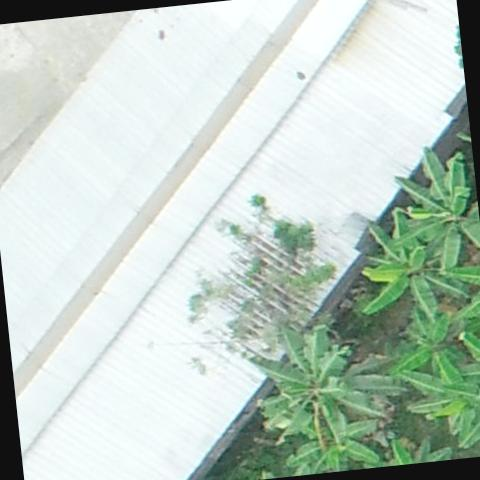Banana-plant: (241, 312, 412, 460), (348, 202, 471, 330), (385, 139, 480, 278), (381, 300, 466, 396), (399, 342, 480, 436), (276, 411, 386, 477)
